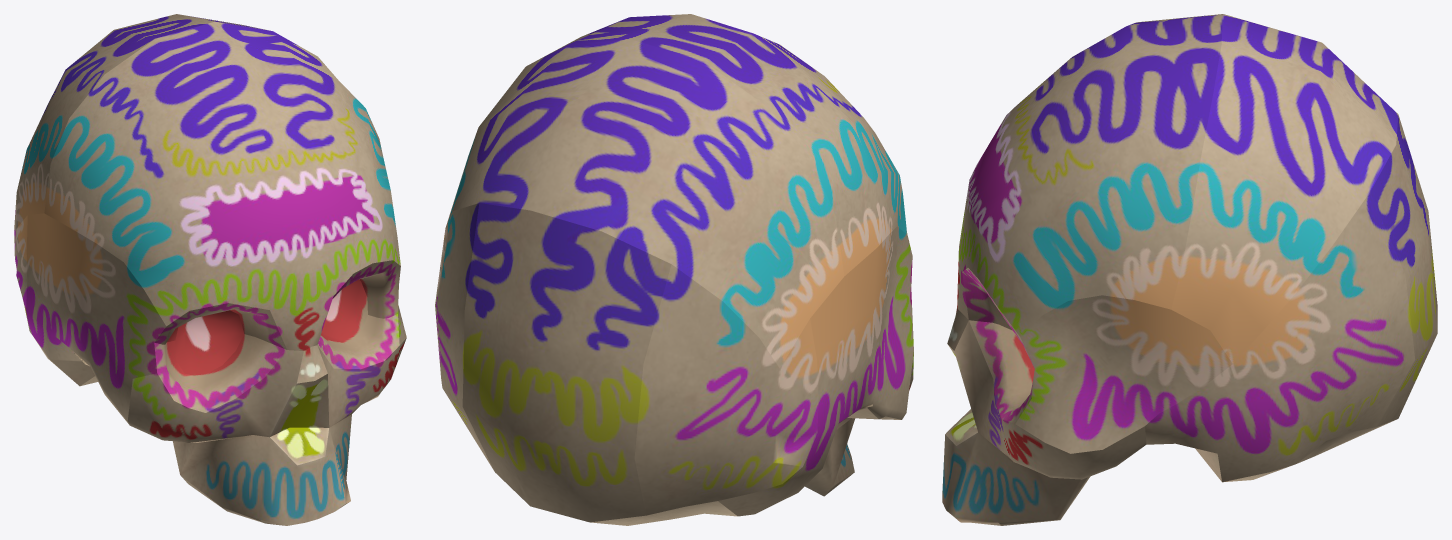
File: calaveritaAzucar.obj
3 renders of one model, left to right at view 1: azimuth 30°, elevation 25°; view 2: azimuth 150°, elevation 25°; view 3: azimuth 270°, elevation 25°, orthographic. The views are drawn at different scales.
Visible parts, largest first — view 1: Calaverita_meshId0_name; view 2: Calaverita_meshId0_name; view 3: Calaverita_meshId0_name.
Boxes of the visible parts, bbox=[...] form: Calaverita_meshId0_name: bbox=[14, 14, 406, 525]; Calaverita_meshId0_name: bbox=[435, 14, 913, 525]; Calaverita_meshId0_name: bbox=[942, 14, 1437, 525].
Bounding box in the file's own units: 21.71 × 27.85 × 26.46.
Materials: 1 (1 with a texture image).
